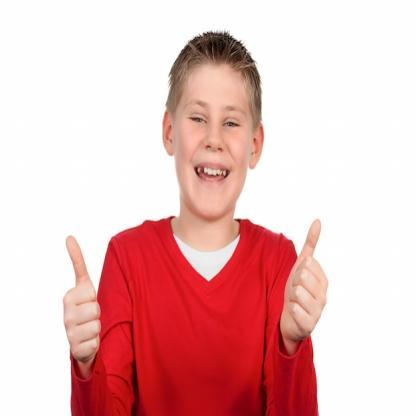thumb_up: (278, 215, 330, 346), (58, 226, 106, 364)
